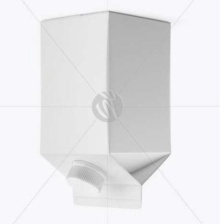carton: (32, 6, 183, 213)
